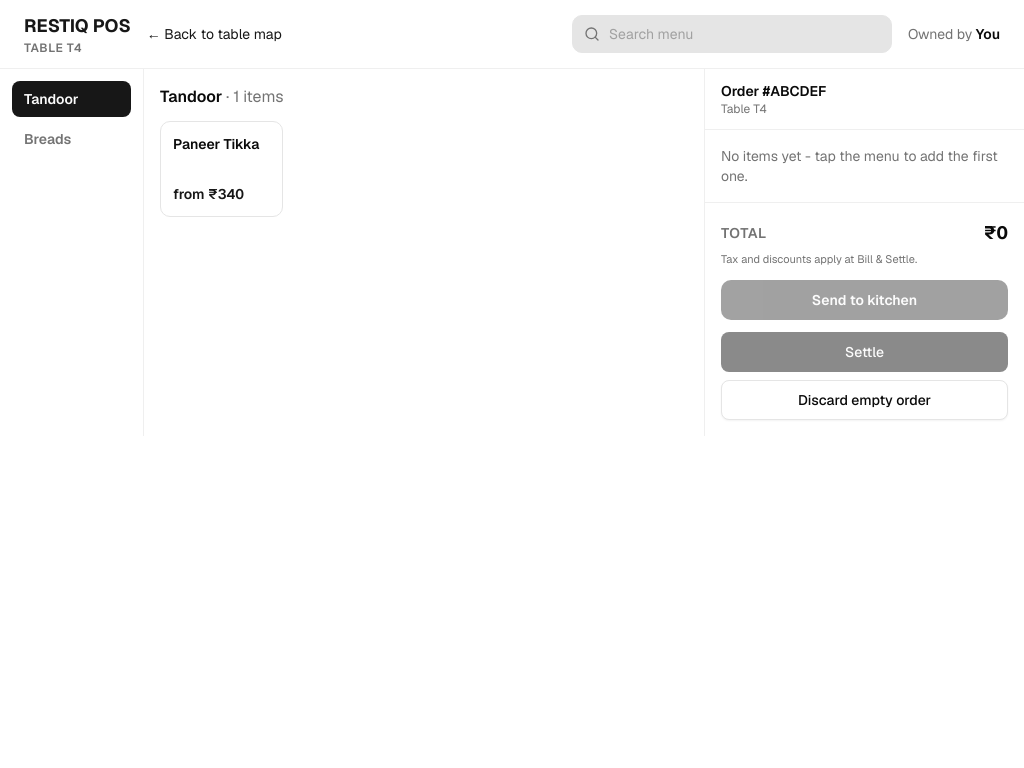
it: OrderTakingView › an item with a required modifier group blocks add until it's satisfied
The image size is (1024, 768).
Expected: the element with test id "order-taking-view" is shown, 0,0 -> 1023,436
Click the button with test id "item-tile-item-paneer" at (222, 169), box 160,121 -> 283,217
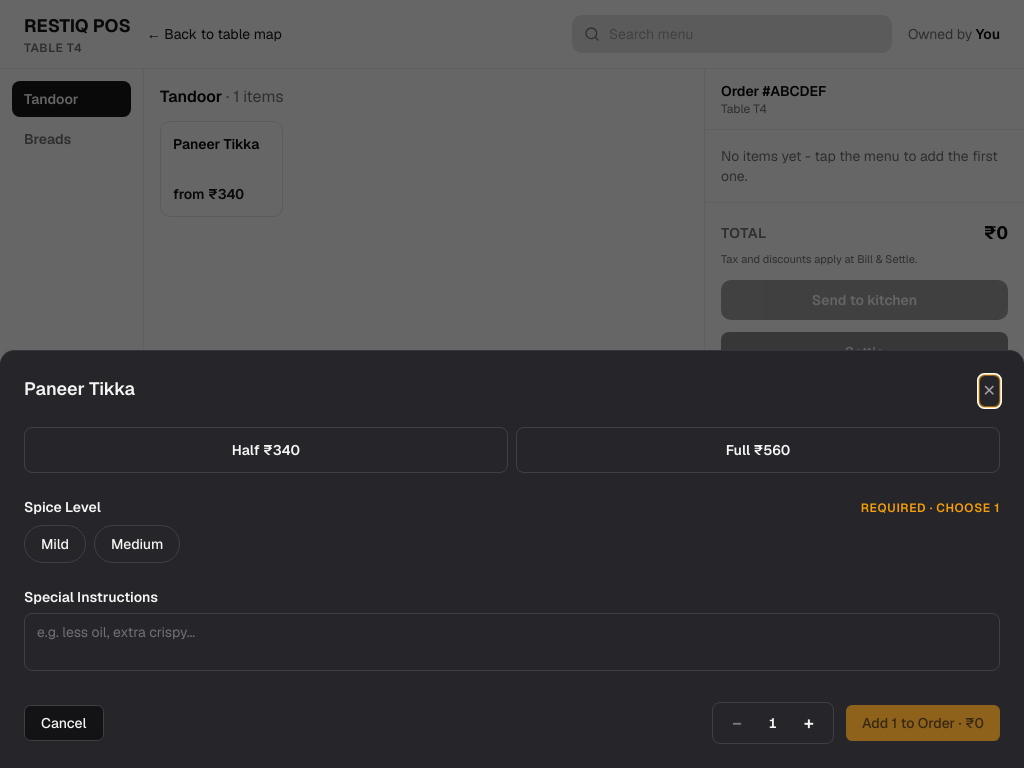
Result: the button with test id "modifier-sheet-confirm" is disabled at 846,705 -> 1000,741
Click the button with test id "variant-chip-v-half" at (266, 450), box 24,427 -> 508,473
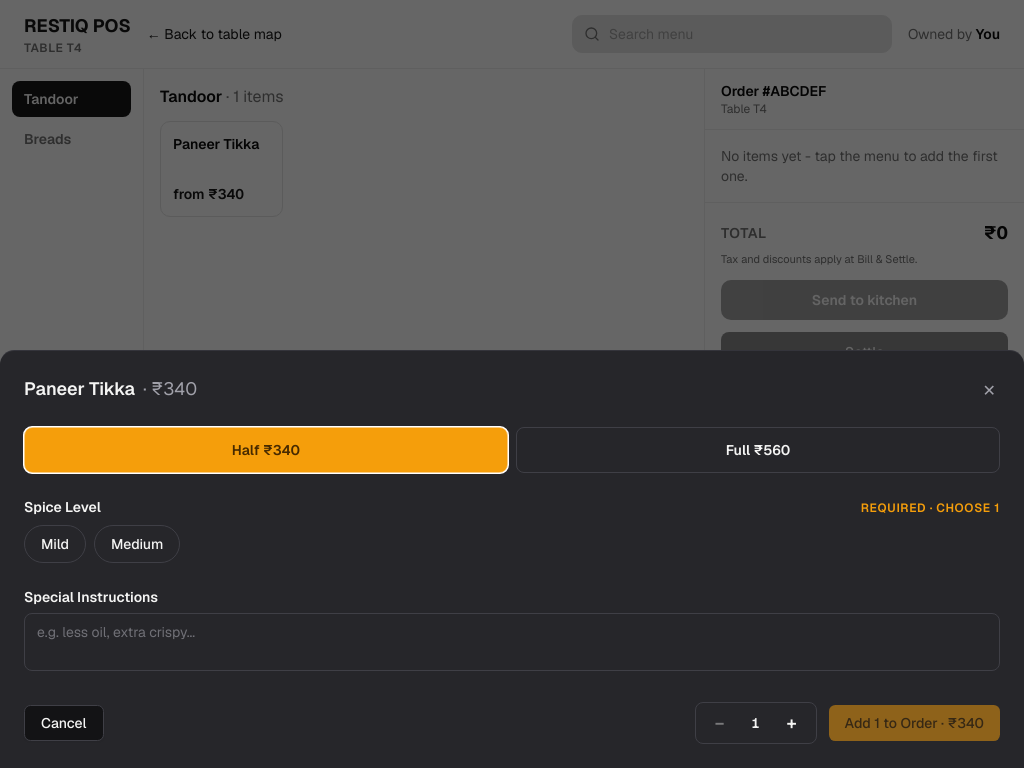
Result: the button with test id "modifier-sheet-confirm" is disabled at 828,705 -> 1000,741
Click the button with test id "modifier-chip-m-medium" at (137, 544), box 94,525 -> 180,563
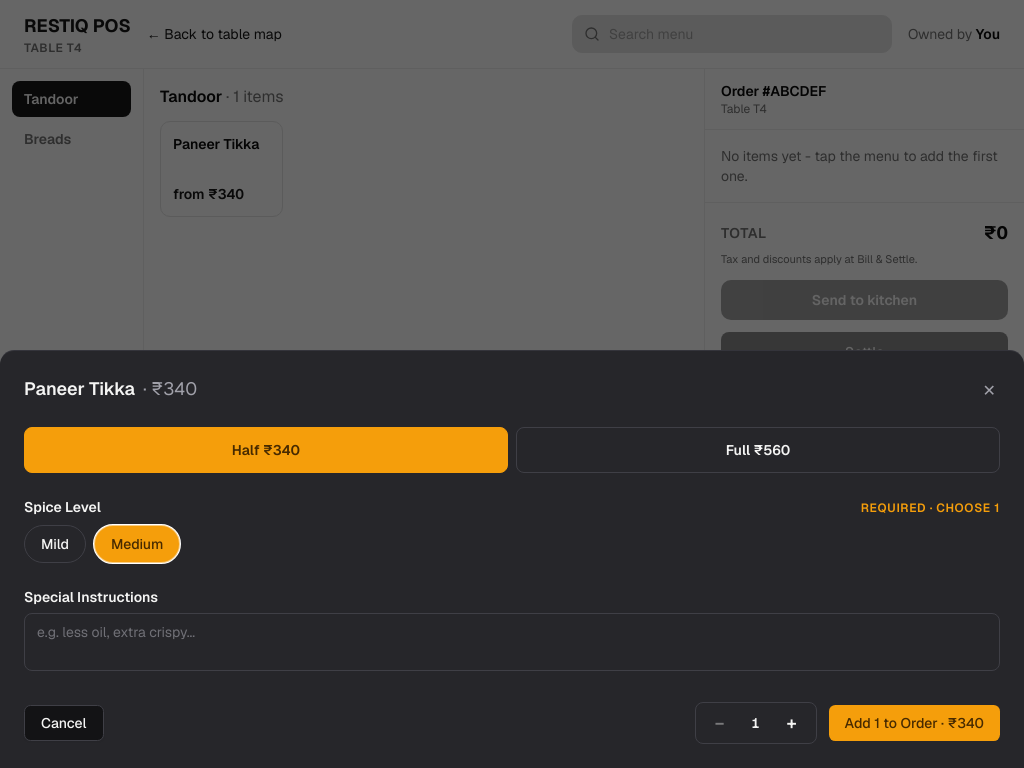
Result: the button with test id "modifier-sheet-confirm" is enabled at 828,705 -> 1000,741
